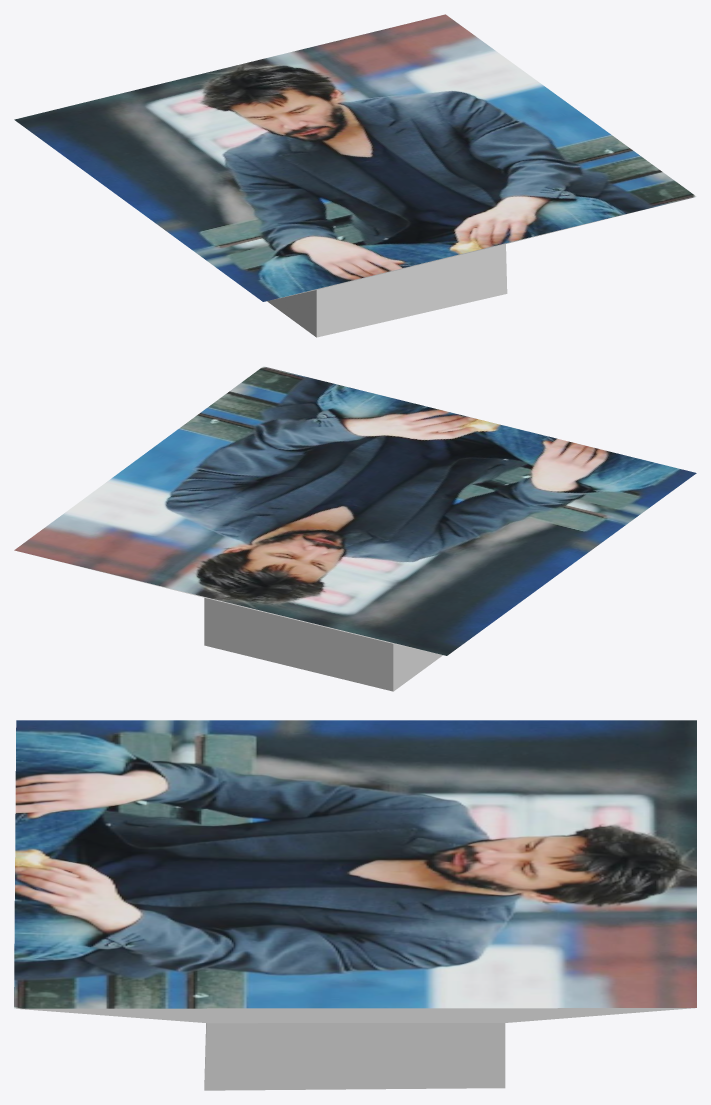
Rendered from stoliczek.glb.
3 renders of one model, top to bottom at view 1: azimuth 30°, elevation 25°; view 2: azimuth 150°, elevation 25°; view 3: azimuth 270°, elevation 25°, orthographic. The views are drawn at different scales.
Visible parts, largest first — view 1: Cube; view 2: Cube; view 3: Cube.
Part boxes in pixels (x1,y1,x2,y2): Cube: (14,14,696,337); Cube: (14,366,696,691); Cube: (14,720,696,1090).
Size of the model in its own units: 2.01 by 0.5252 by 2.01.
Materials: 2 (1 with a texture image).
